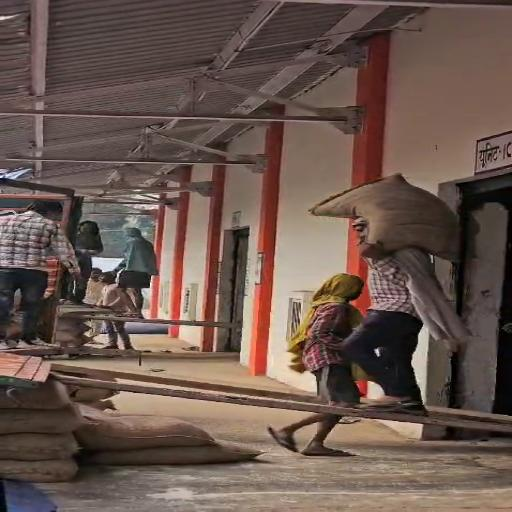bag: (305, 170, 471, 265)
